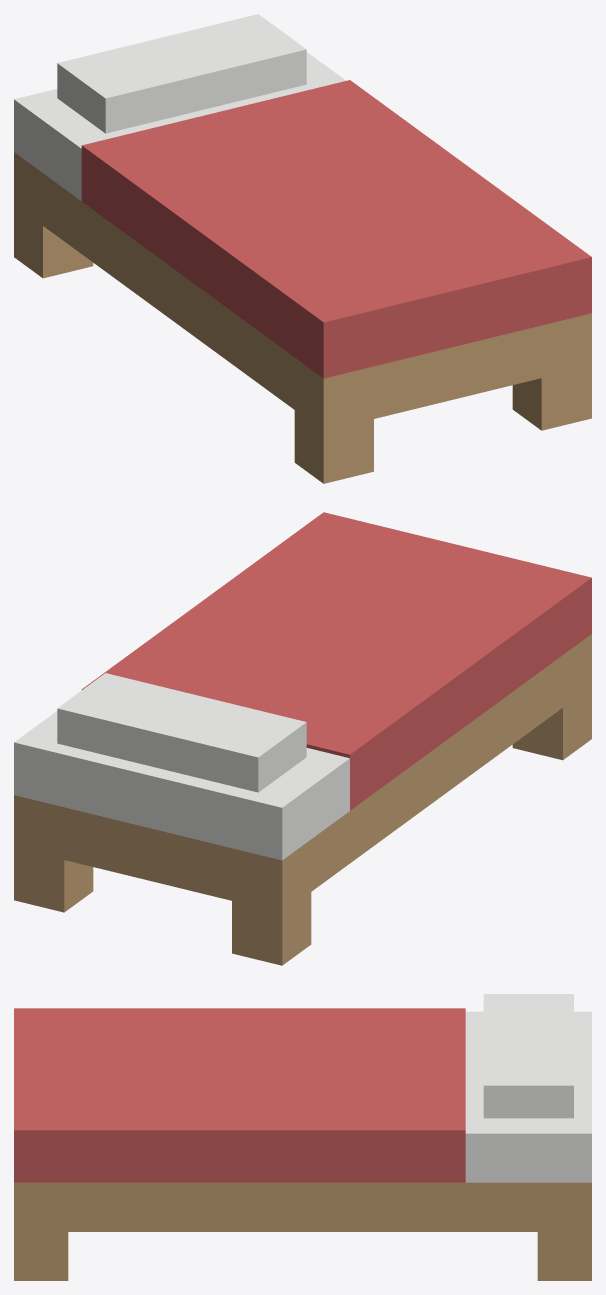
File: bed.gltf
3 views of the same model, one above another, from view 1: azimuth 30°, elevation 25°; view 2: azimuth 150°, elevation 25°; view 3: azimuth 270°, elevation 25° (orthographic). The views are drawn at different scales.
Visible parts, largest first — view 1: bed; view 2: bed; view 3: bed.
Boxes of the visible parts, x1=… form: bed: x1=14, y1=14, x2=591, y2=483; bed: x1=14, y1=512, x2=591, y2=965; bed: x1=14, y1=994, x2=591, y2=1280.
Size of the model in its own units: 1 by 0.6875 by 2.
